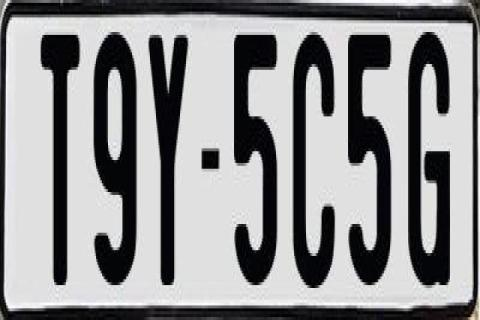0: (230, 35, 280, 288), (92, 32, 140, 294), (344, 35, 392, 285)
C: (290, 23, 338, 280)
G: (404, 32, 448, 296)
T: (38, 32, 78, 282)
Y: (148, 35, 190, 303)
